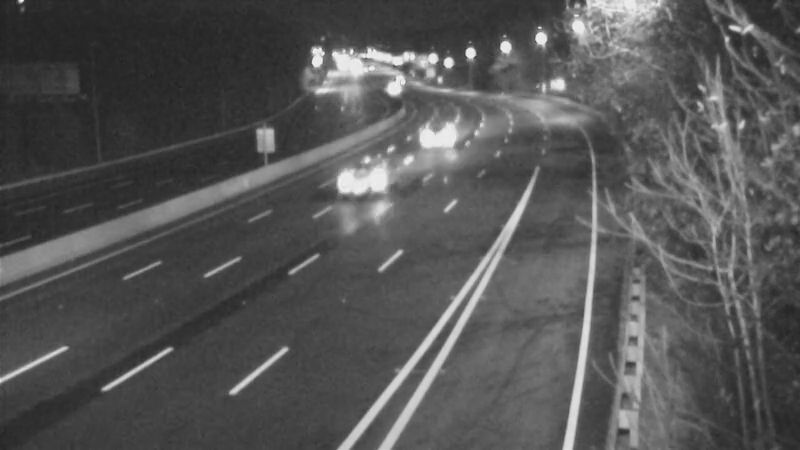vehicle: (325, 141, 405, 221), (408, 105, 458, 155)
